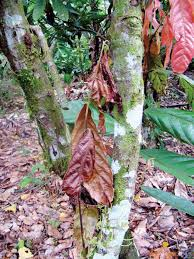mal de hilachas: (63, 53, 114, 214)
